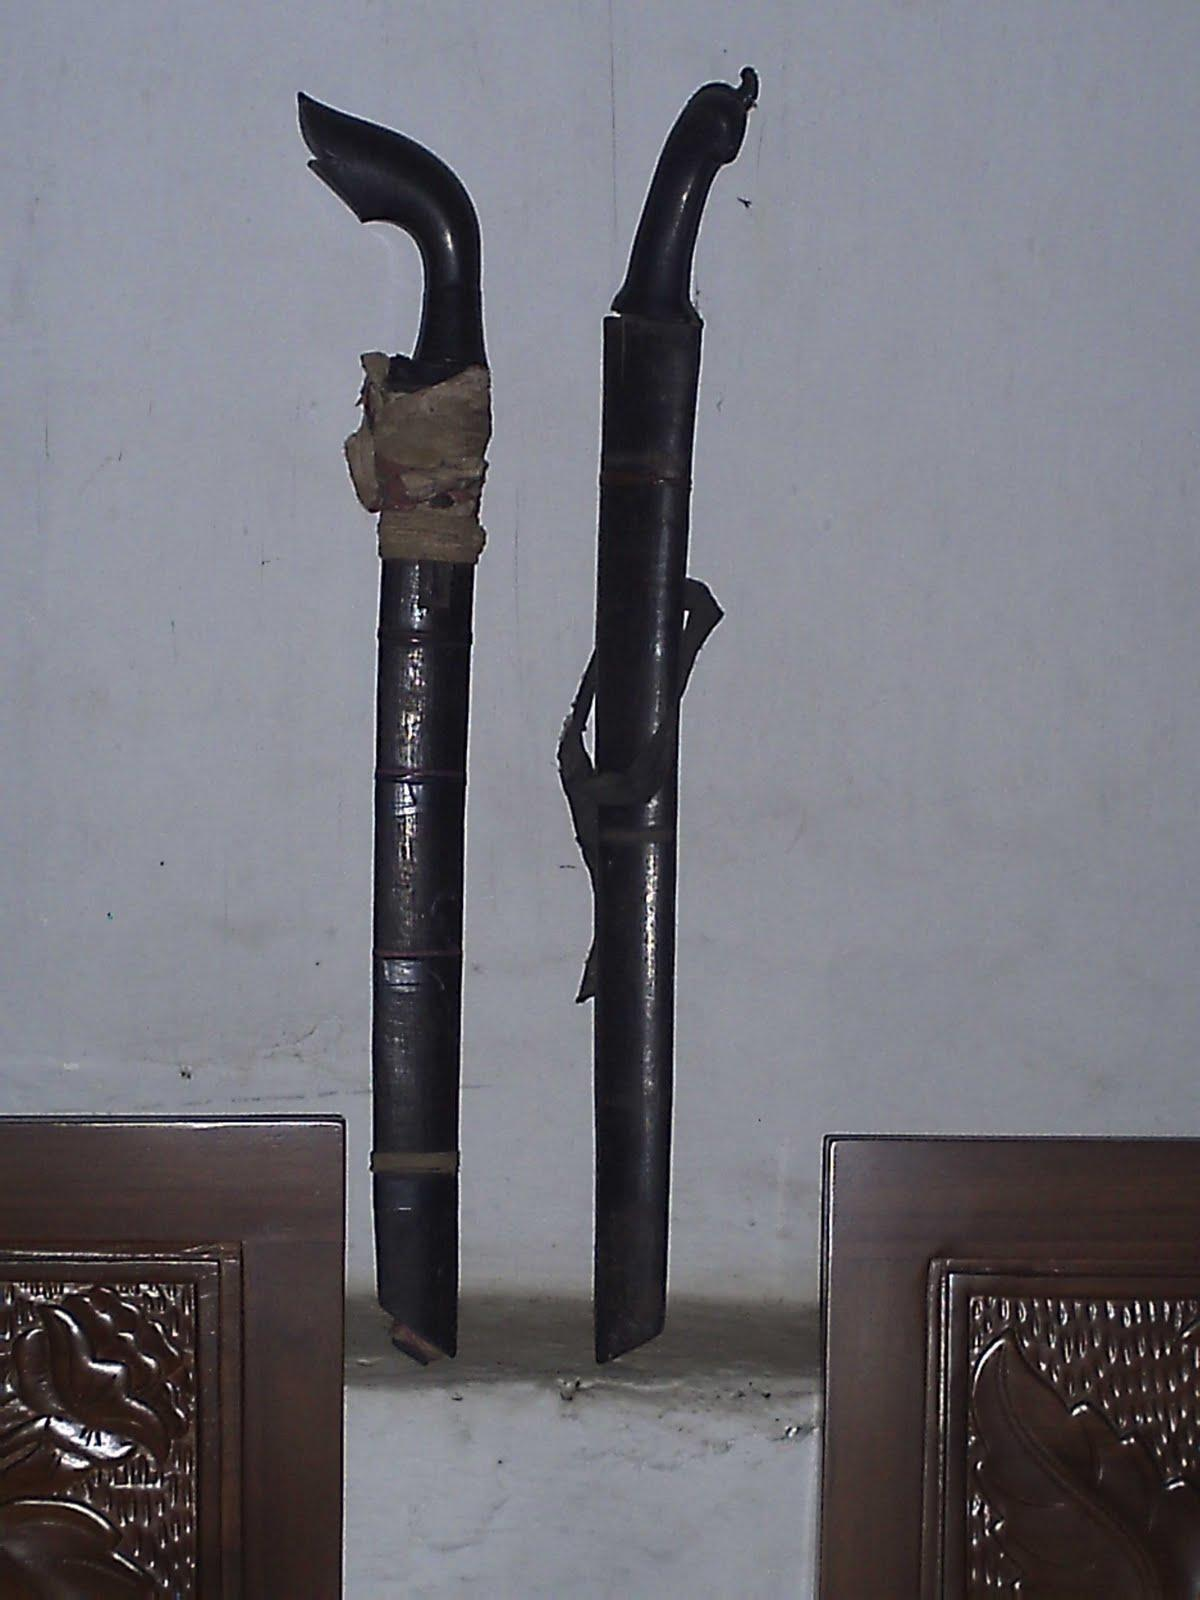espada: (271, 52, 527, 1378), (561, 57, 760, 1385)
